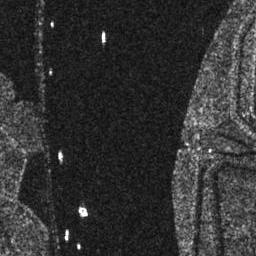ship: (100, 30, 109, 44), (78, 206, 88, 217), (56, 149, 64, 162), (63, 228, 71, 241)
